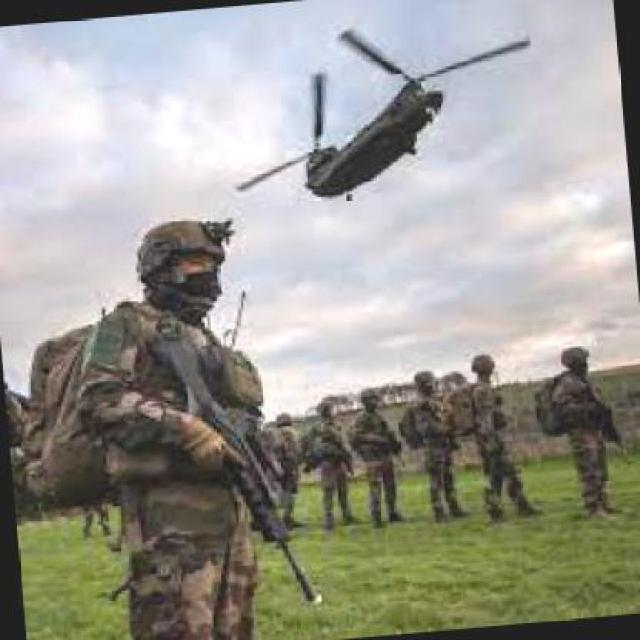MIL_Pax: (62, 210, 284, 638), (542, 340, 627, 523), (455, 349, 517, 525), (402, 364, 467, 522), (347, 383, 405, 525), (307, 392, 358, 528), (266, 410, 305, 528), (78, 490, 113, 535)
